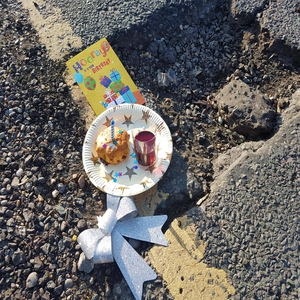pothole: (61, 1, 300, 234)
